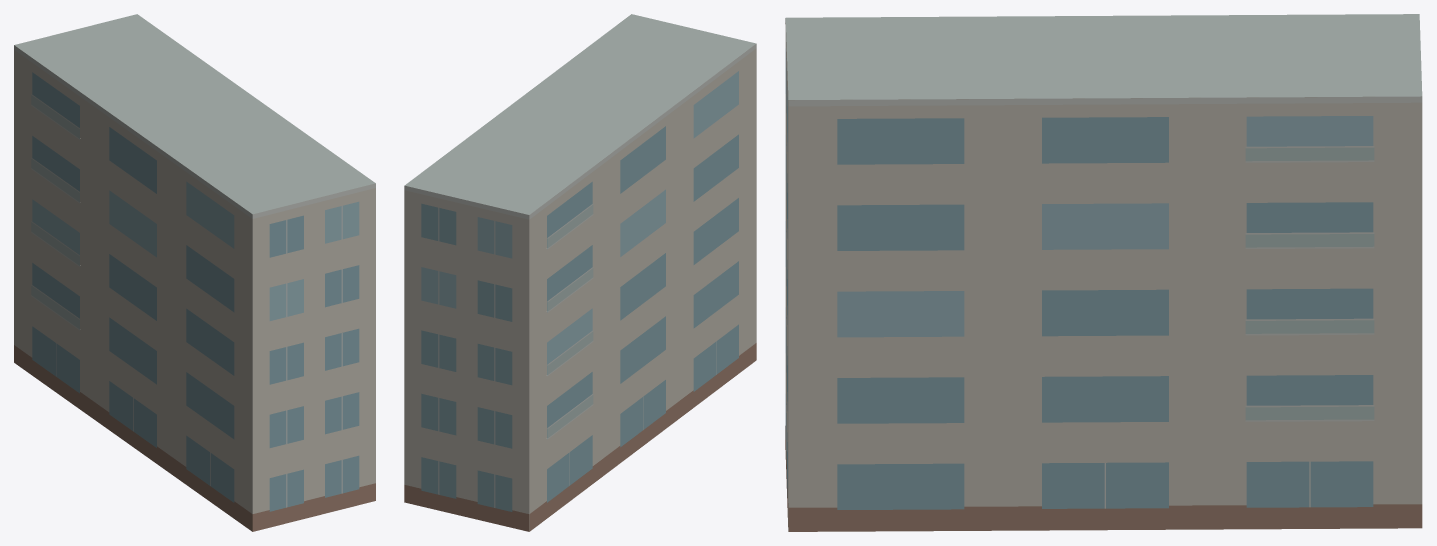
Rendered from survey-upis-32577250.glb.
The picture shows the model from 3 angles, left to right: view 1: azimuth 30°, elevation 25°; view 2: azimuth 150°, elevation 25°; view 3: azimuth 270°, elevation 25°; orthographic projection. The views are drawn at different scales.
Visible parts, largest first — view 1: survey-upis-32577250.tmp; view 2: survey-upis-32577250.tmp; view 3: survey-upis-32577250.tmp.
Boxes of the visible parts, x1,y1,x2,y2 form: survey-upis-32577250.tmp: (14,14,375,531); survey-upis-32577250.tmp: (404,14,756,531); survey-upis-32577250.tmp: (785,14,1422,531).
Bounding box in the file's own units: 7.16 × 16.7 × 22.33.
